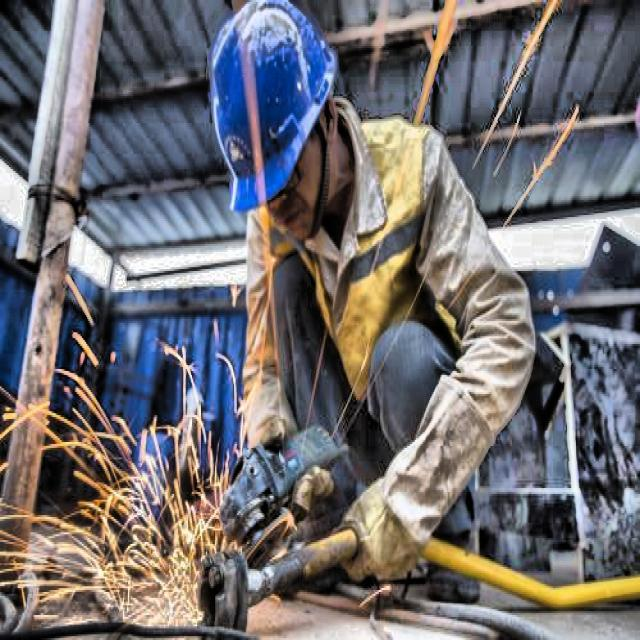helmet: (192, 2, 356, 246)
